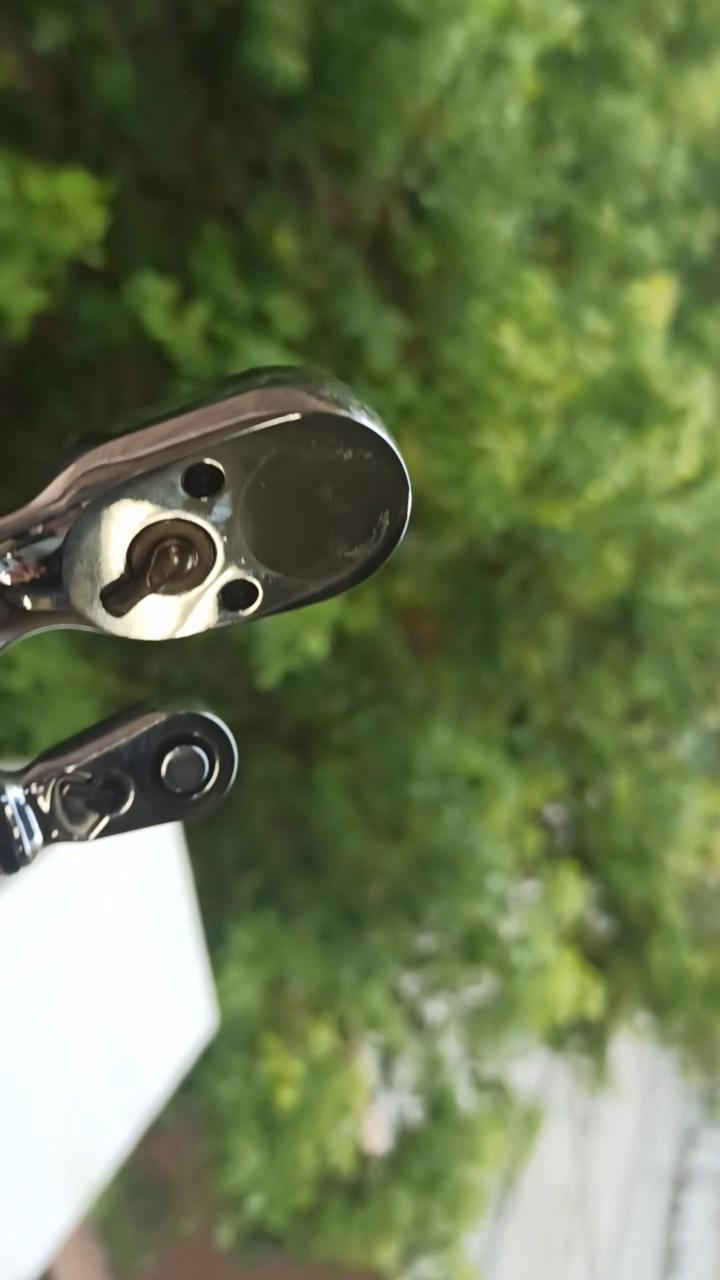Tool: (0, 364, 412, 648), (6, 697, 250, 873)
